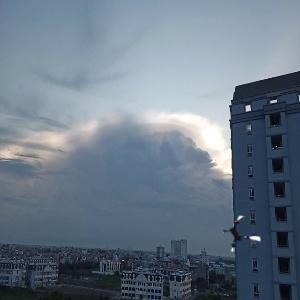drone: (221, 215, 264, 258)
